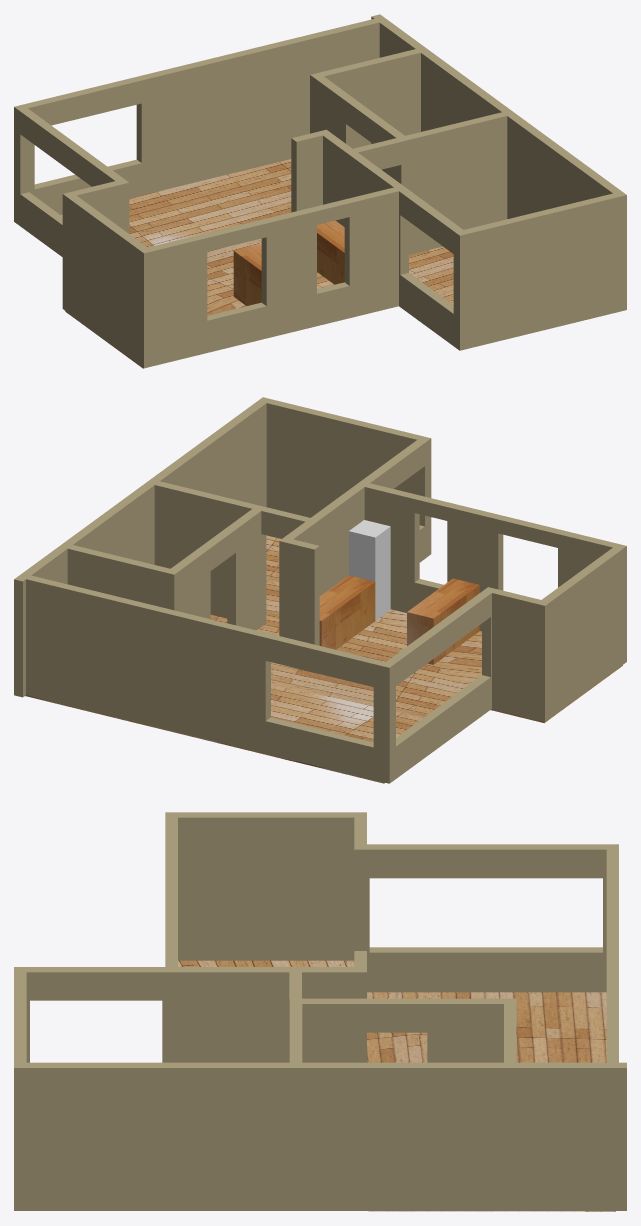
3 renders of one model, top to bottom at view 1: azimuth 30°, elevation 25°; view 2: azimuth 150°, elevation 25°; view 3: azimuth 270°, elevation 25°, orthographic. The views are drawn at different scales.
Visible parts, largest first — view 1: walls, Plane, barra, encimera; view 2: walls, Plane, encimera, frigo, barra; view 3: walls, Plane.
Part boxes in pixels (<box>): walls: <box>14,14,626,368</box>; Plane: <box>61,159,458,368</box>; barra: <box>233,244,261,305</box>; encimera: <box>317,220,344,284</box>; walls: <box>14,397,626,783</box>; Plane: <box>25,535,622,783</box>; encimera: <box>319,575,375,649</box>; frigo: <box>349,520,390,620</box>; barra: <box>407,578,479,664</box>; walls: <box>14,812,626,1210</box>; Plane: <box>178,960,615,1211</box>.
Bounding box in the file's own units: 9.6 × 9.73 × 2.55.
3 materials, 2 textured.
